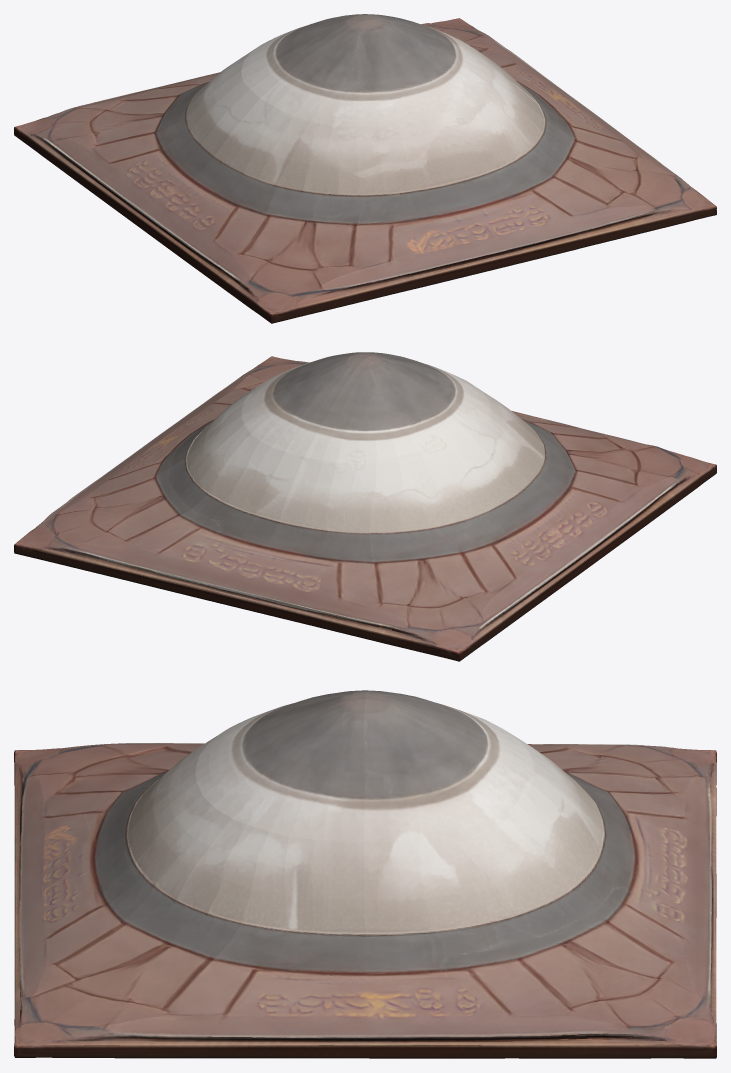
The picture shows the model from 3 angles, top to bottom: view 1: azimuth 30°, elevation 25°; view 2: azimuth 150°, elevation 25°; view 3: azimuth 270°, elevation 25°; orthographic projection. The views are drawn at different scales.
Parts seen in each view (by area): view 1: world; view 2: world; view 3: world.
Boxes of the visible parts, <box> form: world: <box>14,14,716,323</box>; world: <box>14,352,716,661</box>; world: <box>14,690,716,1058</box>.
Size of the model in its own units: 1 by 0.3391 by 1.
Materials: 1 (1 with a texture image).
